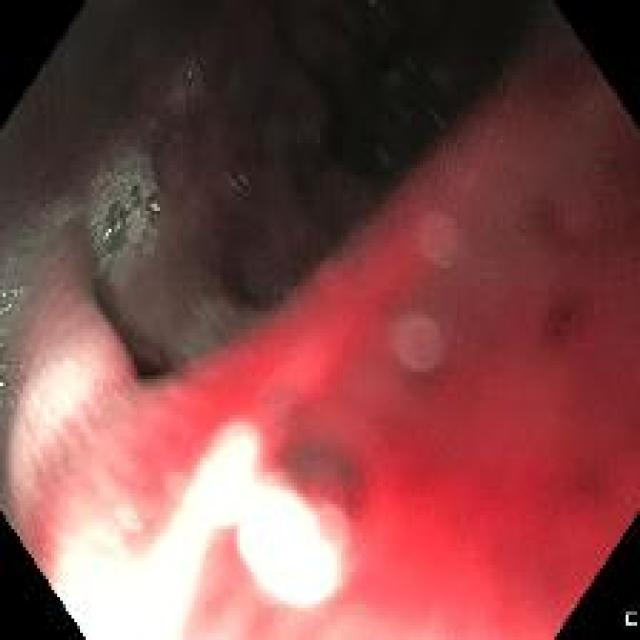blur: (14, 16, 627, 628)
bubbles: (86, 144, 156, 267), (170, 56, 211, 102), (221, 161, 251, 201), (375, 58, 403, 89), (425, 106, 447, 133), (371, 143, 393, 168), (426, 65, 445, 88)
color misalignment: (392, 311, 450, 375), (419, 216, 467, 270)
contrast: (148, 15, 529, 313)
saturation: (52, 425, 338, 631), (15, 368, 93, 460)
